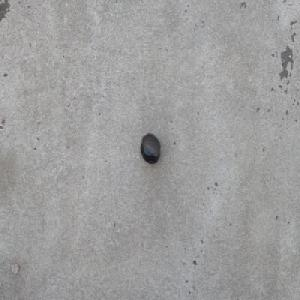FuelCap: (140, 132, 160, 164)
